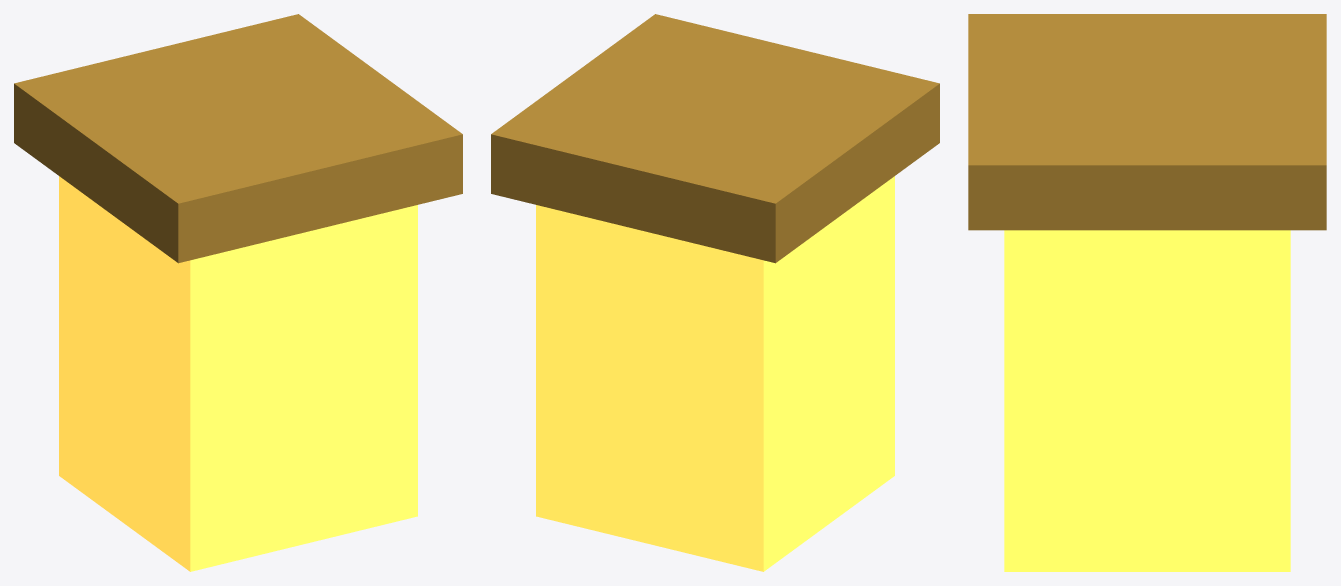
Rendered from lantern.glb.
3 views of the same model, side by side, from view 1: azimuth 30°, elevation 25°; view 2: azimuth 150°, elevation 25°; view 3: azimuth 270°, elevation 25° (orthographic). The views are drawn at different scales.
Visible parts, largest first — view 1: lantern; view 2: lantern; view 3: lantern.
Part boxes in pixels (x1,y1,x2,y2): lantern: (14,14,462,571); lantern: (491,14,939,571); lantern: (968,14,1326,571).
Bounding box in the file's own units: 0.2 × 0.26 × 0.2.
